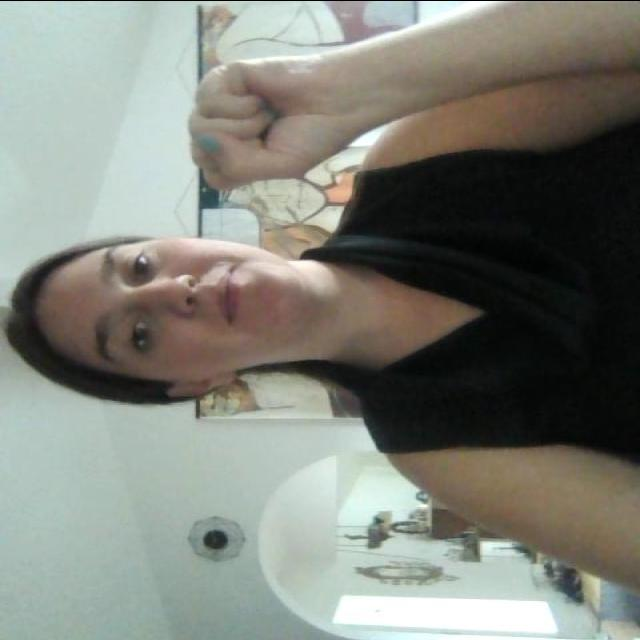Rock: (163, 26, 370, 213)
